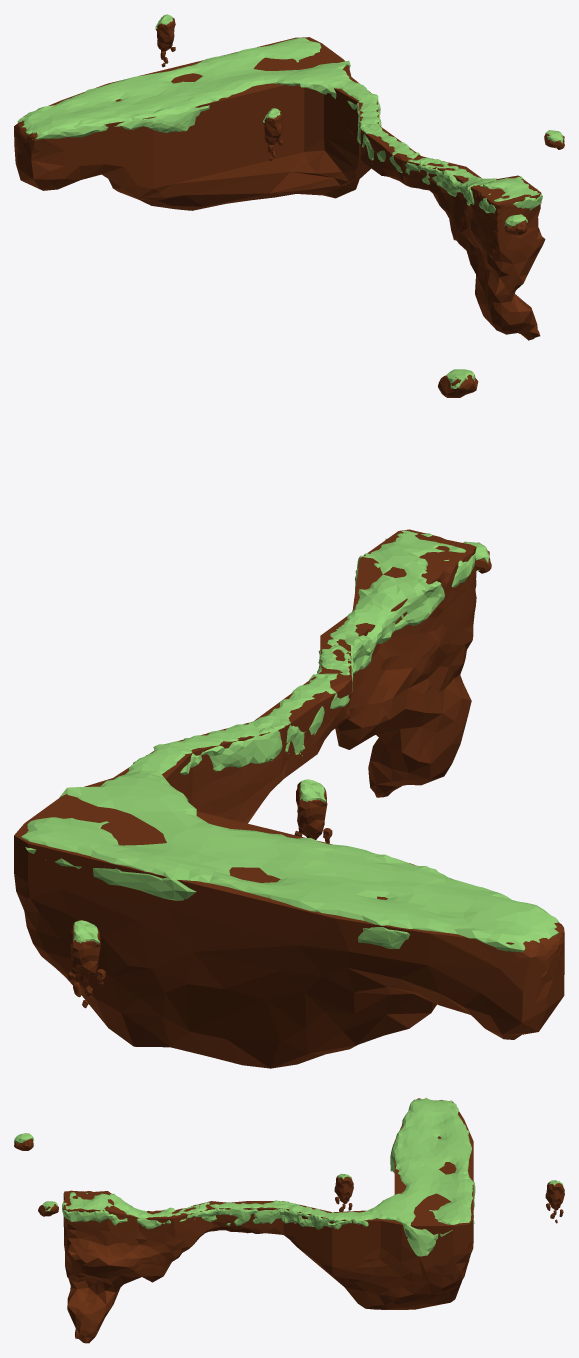
Rendered from Uno_Isola6.fbx.
3 views of the same model, one above another, from view 1: azimuth 30°, elevation 25°; view 2: azimuth 150°, elevation 25°; view 3: azimuth 270°, elevation 25° (orthographic). The views are drawn at different scales.
Parts seen in each view (by area): view 1: Plane.009, Plane.020, Sphere.056, Sphere.112; view 2: Plane.009, Plane.020, Sphere.112, Sphere.056; view 3: Plane.009, Plane.020, Sphere.056, Sphere.112.
Boxes of the visible parts, left/top/right/bottom form: Plane.009: left=14, top=37, right=545, bottom=340; Plane.020: left=17, top=37, right=542, bottom=213; Sphere.056: left=263, top=112, right=282, bottom=145; Sphere.112: left=155, top=18, right=175, bottom=51; Plane.009: left=14, top=529, right=564, bottom=1068; Plane.020: left=21, top=530, right=564, bottom=952; Sphere.112: left=69, top=923, right=100, bottom=981; Sphere.056: left=296, top=782, right=327, bottom=839; Plane.009: left=63, top=1098, right=473, bottom=1343; Plane.020: left=62, top=1097, right=475, bottom=1256; Sphere.056: left=334, top=1176, right=353, bottom=1203; Sphere.112: left=545, top=1183, right=564, bottom=1210.
Size of the model in its own units: 562 by 398 by 981.
